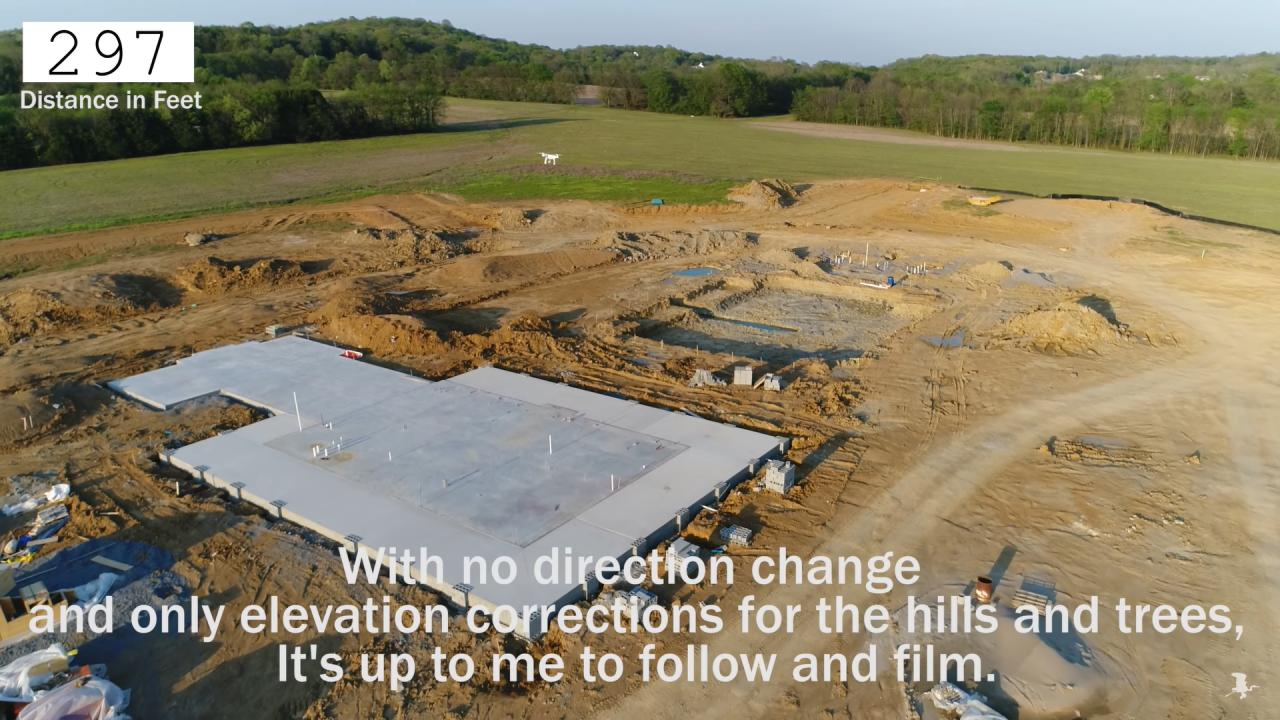Drone: (531, 144, 568, 174)
